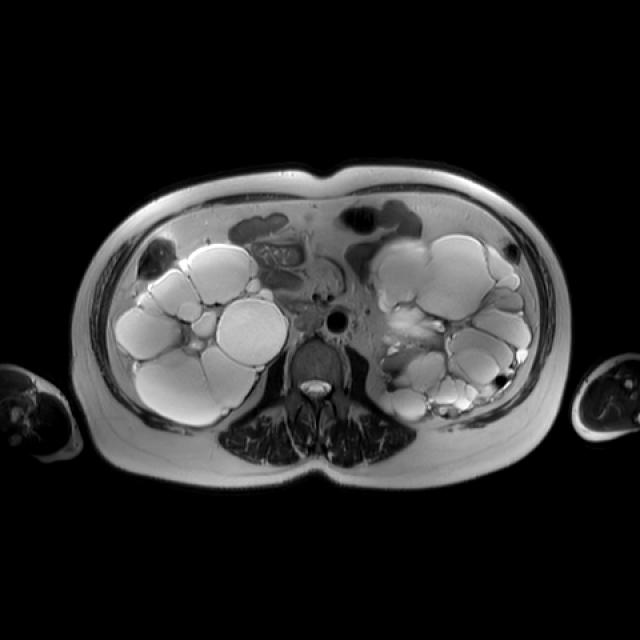sag: (115, 243, 287, 428)
sol: (375, 234, 528, 420)
